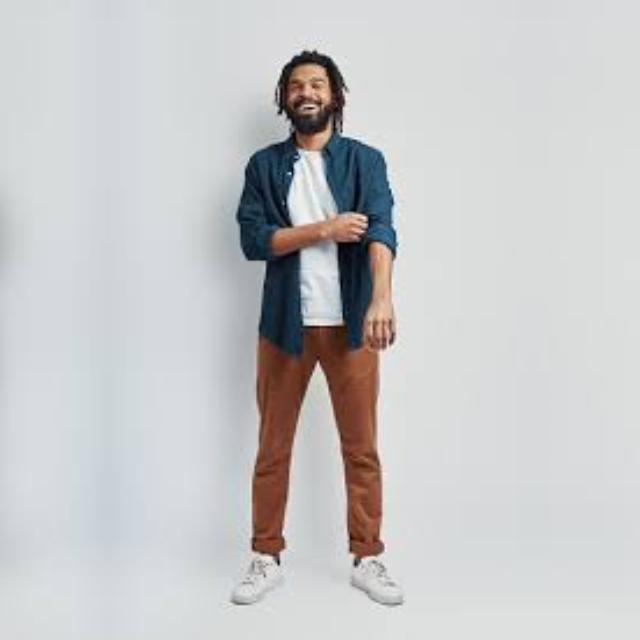person: (190, 34, 448, 580), (0, 34, 24, 580), (617, 34, 640, 580)
